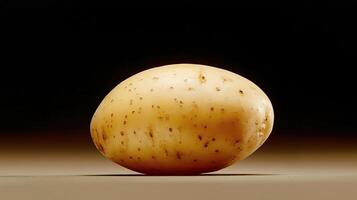potato: (83, 55, 283, 178)
